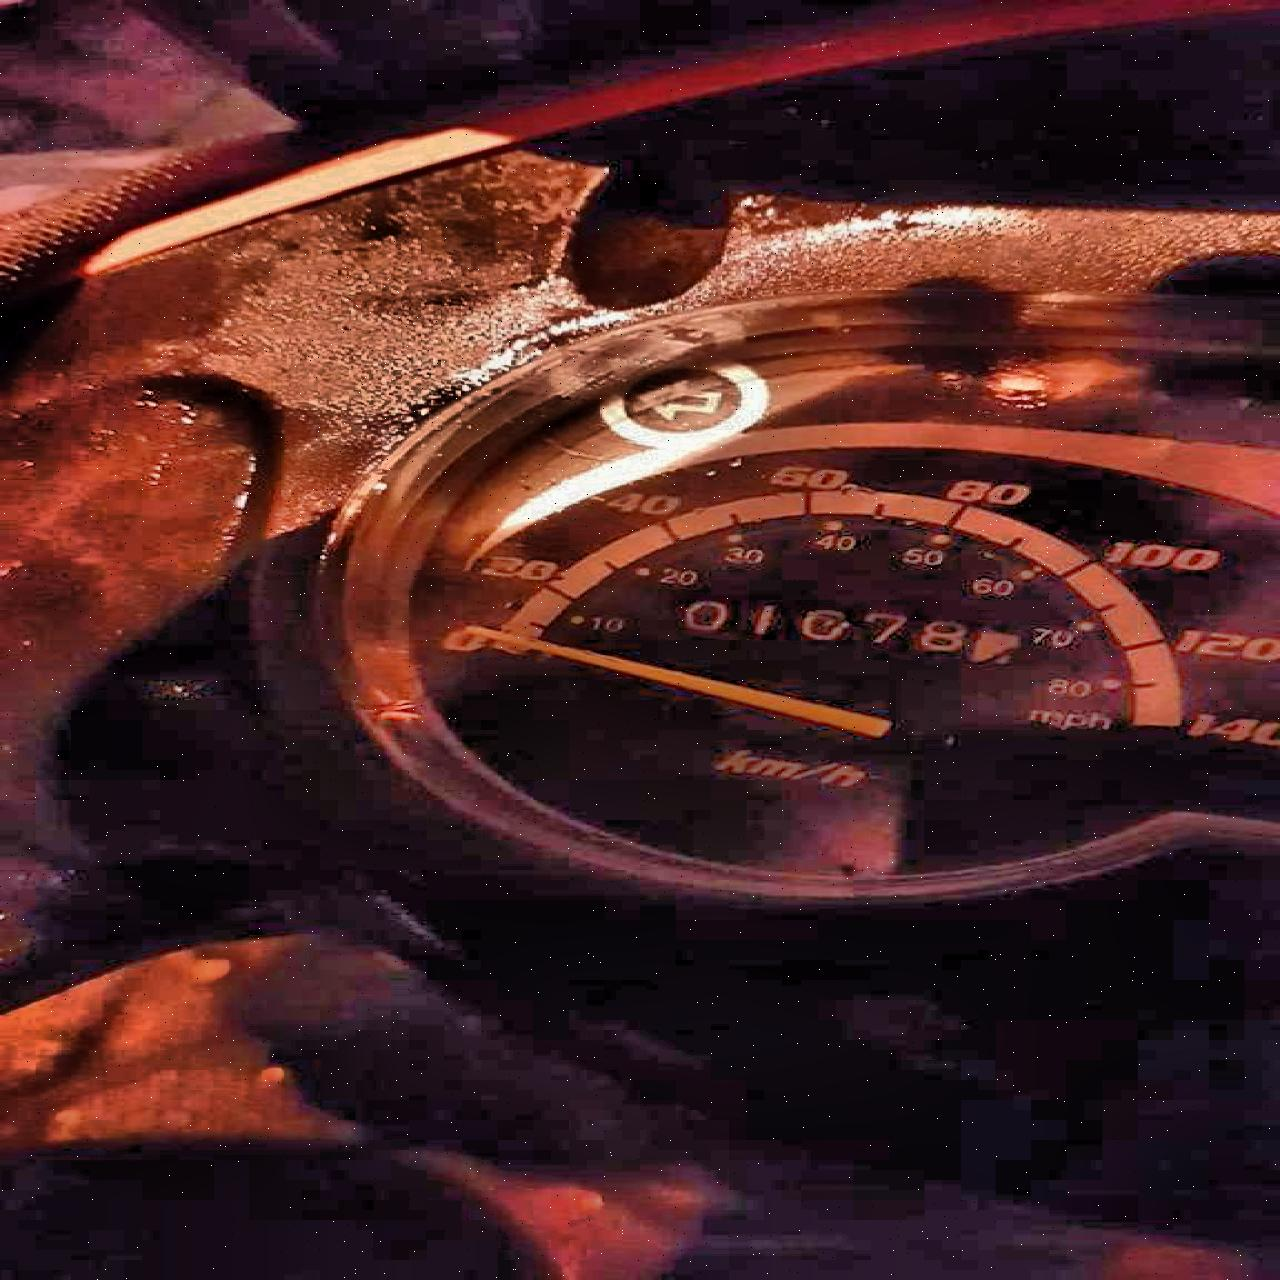0: (794, 610, 846, 645), (678, 598, 729, 633)
1: (751, 602, 771, 633)
4: (971, 639, 1020, 669)
7: (863, 610, 907, 642)
8: (918, 619, 962, 652)
odometer: (658, 588, 1029, 678)
